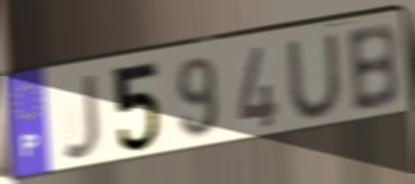4: (236, 42, 280, 131)
5: (108, 57, 165, 155)
9: (176, 53, 221, 143)
B: (343, 20, 403, 117)
J: (59, 70, 103, 163)
U: (283, 29, 346, 121)
